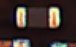COMP: (10, 5, 64, 32)
GAP: (14, 20, 31, 47), (49, 21, 61, 47)
